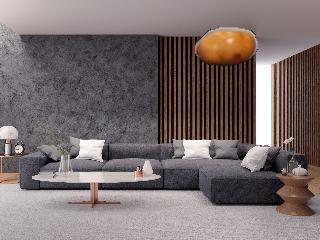potato: (192, 28, 259, 66)
